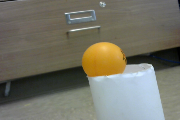PingPongBall: (84, 42, 126, 79)
